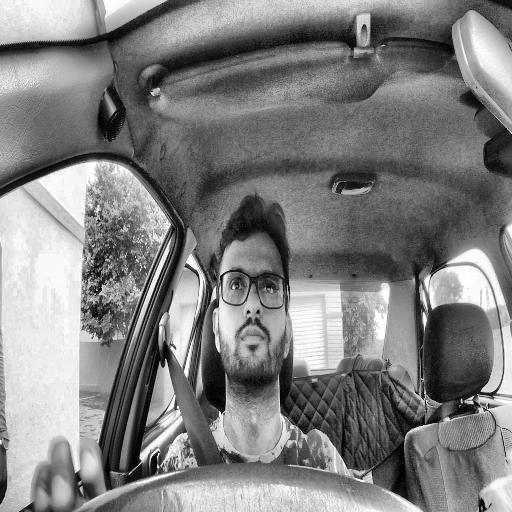awake: (212, 195, 293, 392)
